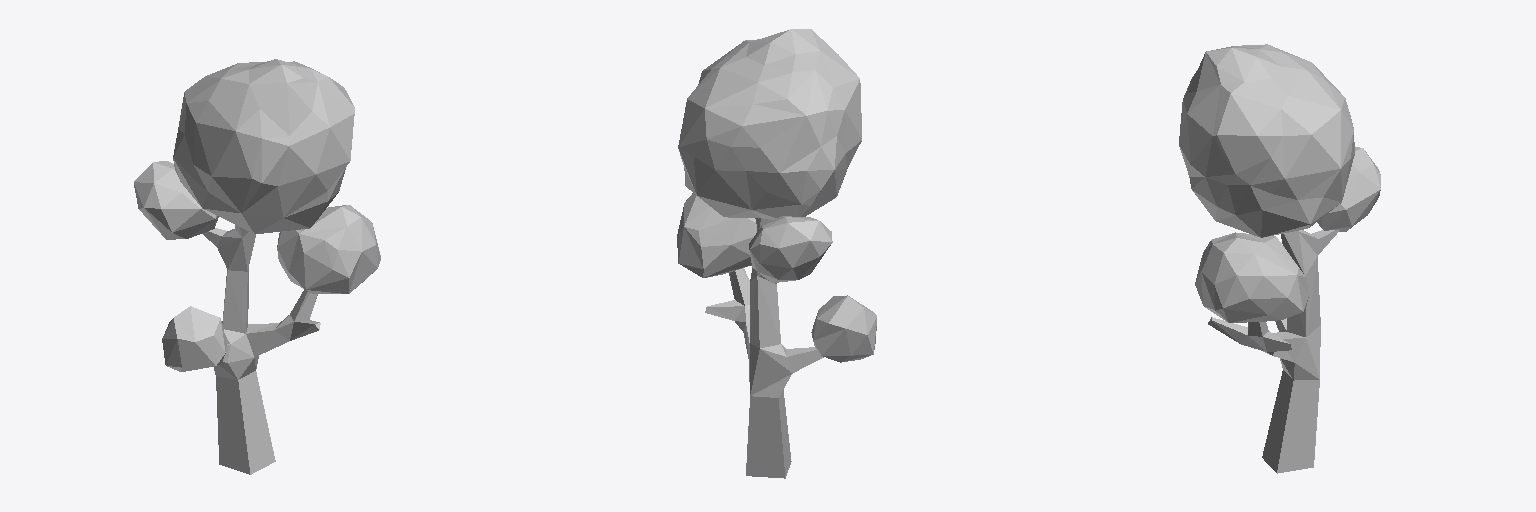
The model's file is ball_tree4.obj.
The picture shows the model from 3 angles: view 1: azimuth 30°, elevation 25°; view 2: azimuth 150°, elevation 25°; view 3: azimuth 270°, elevation 25°; orthographic projection.
Parts seen in each view (by area): view 1: Tree1_2_Cube.019; view 2: Tree1_2_Cube.019; view 3: Tree1_2_Cube.019.
Part boxes in pixels (x1,y1,x2,y2): Tree1_2_Cube.019: (134,59,380,474); Tree1_2_Cube.019: (677,29,876,478); Tree1_2_Cube.019: (1179,44,1380,473).
Size of the model in its own units: 4.97 by 10.12 by 4.45.